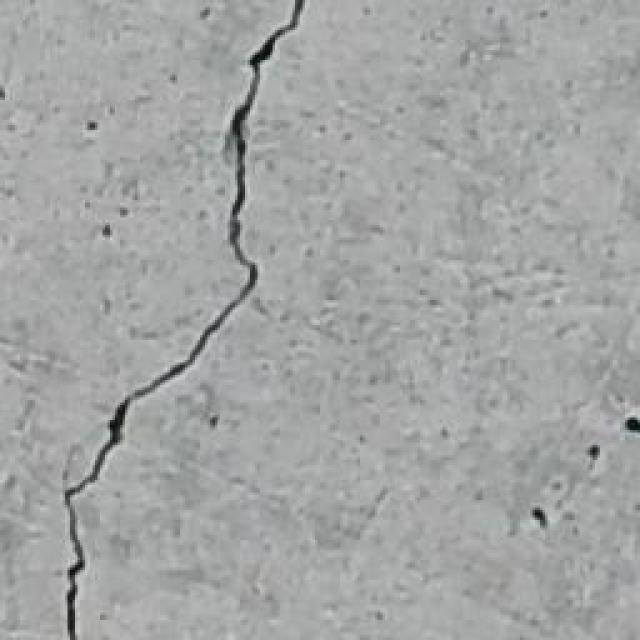concrete-crack: (62, 0, 310, 640)
